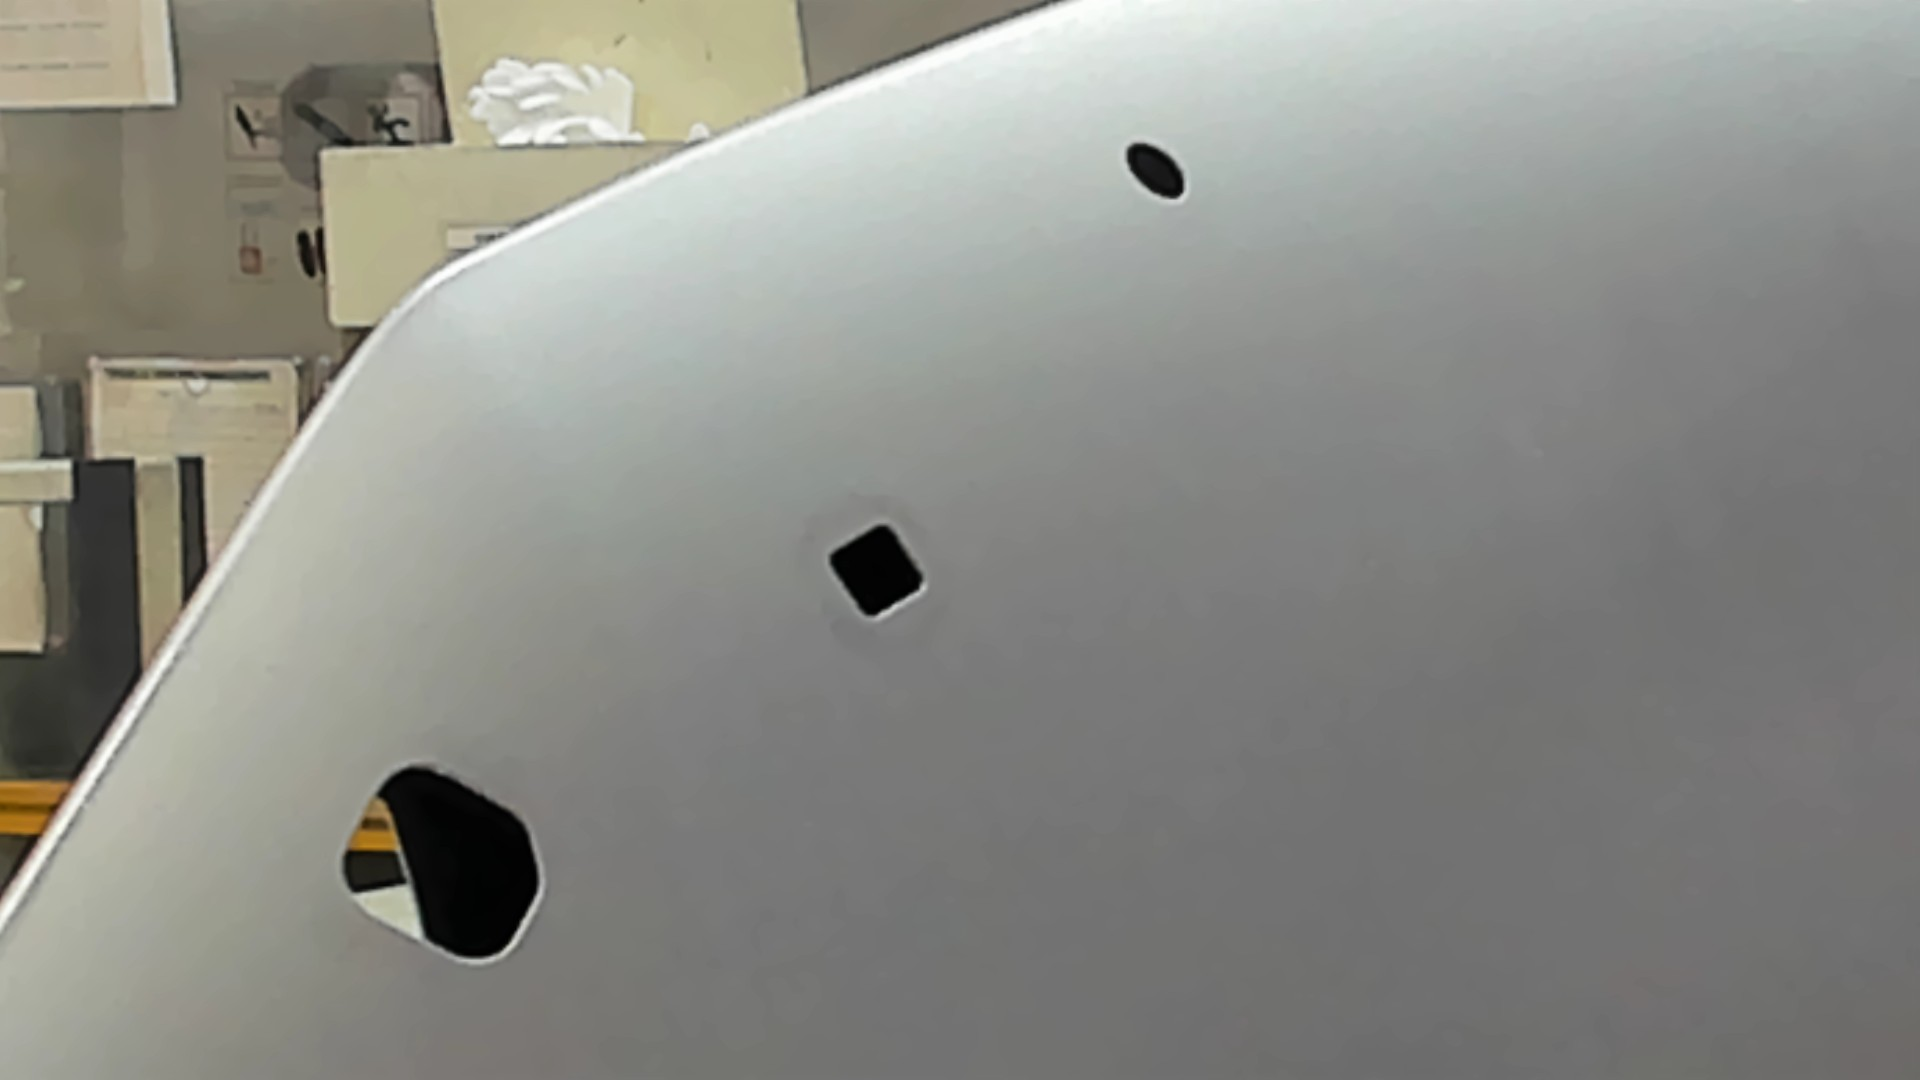Agujero: (828, 521, 928, 621), (1124, 141, 1185, 200)
Agujerote: (343, 762, 547, 967)
